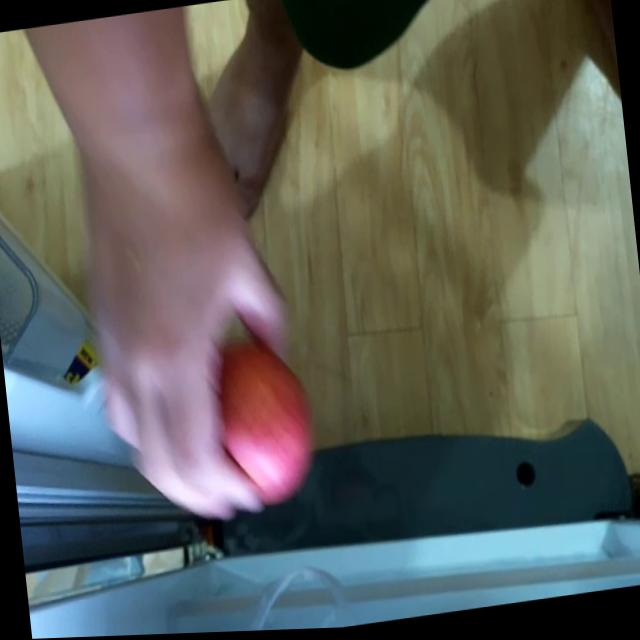apple: (205, 325, 318, 509)
